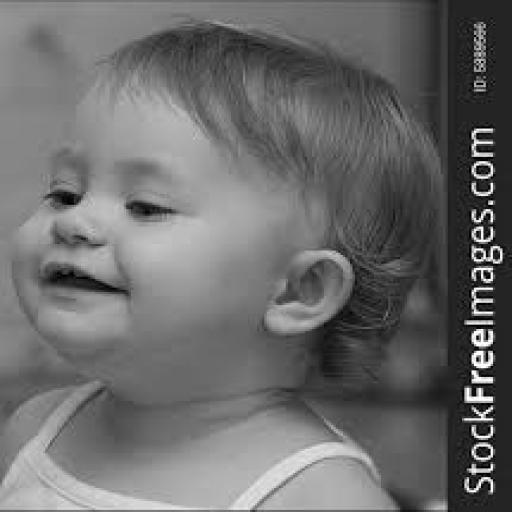laughing: (0, 13, 445, 507)
